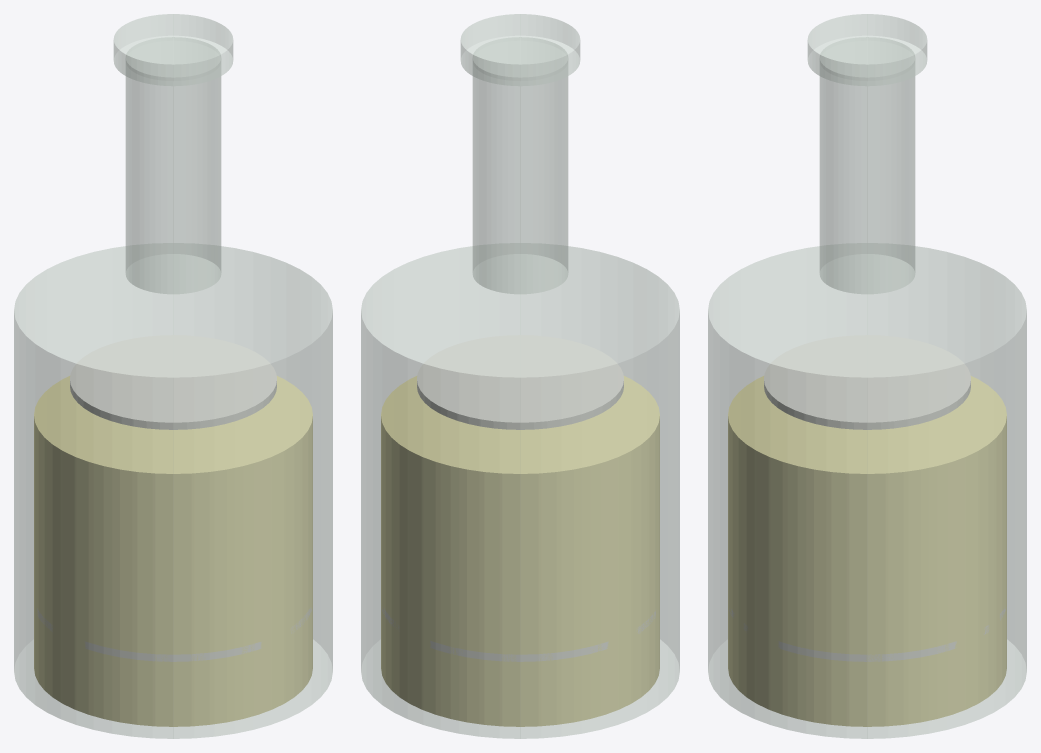
File: conical-flask.glb
3 views of the same model, side by side, from view 1: azimuth 30°, elevation 25°; view 2: azimuth 150°, elevation 25°; view 3: azimuth 270°, elevation 25° (orthographic).
Parts seen in each view (by area): view 1: conical-flask-body, conical-flask-liquid, conical-flask-neck, conical-flask-mark-3, conical-flask-rim, conical-flask-mark-0; view 2: conical-flask-body, conical-flask-liquid, conical-flask-neck, conical-flask-mark-3, conical-flask-rim, conical-flask-mark-0; view 3: conical-flask-body, conical-flask-liquid, conical-flask-neck, conical-flask-mark-3, conical-flask-rim, conical-flask-mark-0.
Part boxes in pixels (box(x1,y1,x2,y2)): conical-flask-body: box(14, 243, 332, 738); conical-flask-liquid: box(34, 376, 312, 726); conical-flask-neck: box(125, 37, 221, 294); conical-flask-mark-3: box(70, 335, 276, 429); conical-flask-rim: box(113, 14, 233, 86); conical-flask-mark-0: box(37, 608, 311, 661); conical-flask-body: box(361, 243, 679, 738); conical-flask-liquid: box(381, 376, 659, 726); conical-flask-neck: box(472, 37, 568, 294); conical-flask-mark-3: box(417, 335, 623, 429); conical-flask-rim: box(460, 14, 580, 86); conical-flask-mark-0: box(382, 608, 655, 661); conical-flask-body: box(708, 243, 1026, 738); conical-flask-liquid: box(728, 376, 1006, 726); conical-flask-neck: box(819, 37, 915, 294); conical-flask-mark-3: box(764, 335, 970, 429); conical-flask-rim: box(807, 14, 927, 86); conical-flask-mark-0: box(729, 608, 1005, 661).
Bounding box in the file's own units: 0.04 × 0.0875 × 0.04.
